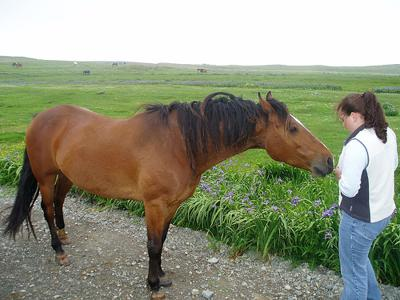person: (331, 94, 398, 298)
